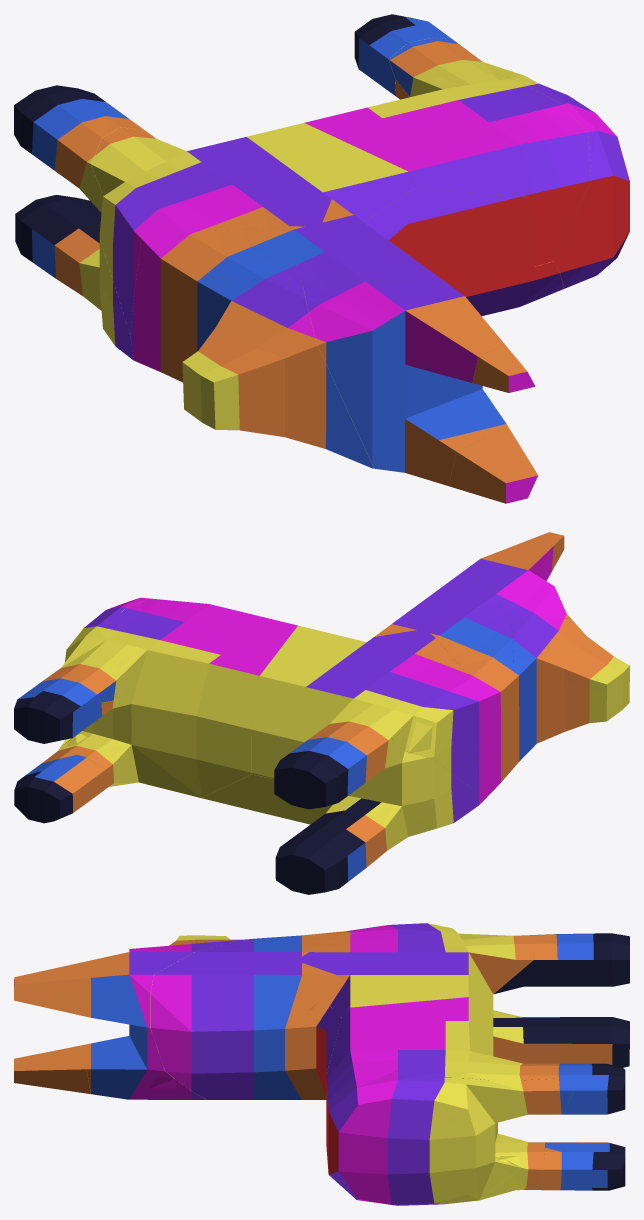
File: pinata2.glb
The picture shows the model from 3 angles, top to bottom: view 1: azimuth 30°, elevation 25°; view 2: azimuth 150°, elevation 25°; view 3: azimuth 270°, elevation 25°; orthographic projection. The views are drawn at different scales.
Parts seen in each view (by area): view 1: Destructible.004_cell.003, Destructible.004_cell.002, Destructible.003_cell.004, Destructible.003_cell.001, Destructible.002_cell.003, Destructible.001_cell.002, Destructible.001_cell.001, Destructible.003_cell.002, Destructible.004_cell, Destructible.002_cell.002, Destructible.001_cell, Destructible.004_cell.004 (+3 smaller); view 2: Destructible.003_cell.001, Destructible.001_cell.001, Destructible.003_cell.004, Destructible.004_cell.002, Destructible.002_cell.003, Destructible.001_cell, Destructible.004_cell, Destructible.003_cell.002, Destructible.004_cell.003, Destructible.002_cell.001, Destructible.002_cell.004, Destructible.002_cell (+3 smaller); view 3: Destructible.002_cell.002, Destructible.004_cell, Destructible.004_cell.003, Destructible.003_cell.001, Destructible.003_cell.004, Destructible.001_cell.001, Destructible.002_cell.003, Destructible.003_cell, Destructible.001_cell, Destructible.002_cell.001, Destructible.002_cell.004, Destructible.004_cell.004 (+5 smaller).
Boxes of the visible parts, x1,y1,x2,y2 form: Destructible.004_cell.003: (303,279,508,486); Destructible.004_cell.002: (182,277,374,468); Destructible.003_cell.004: (90,127,331,334); Destructible.003_cell.001: (14,85,144,360); Destructible.002_cell.003: (388,37,591,266); Destructible.001_cell.002: (364,188,534,315); Destructible.001_cell.001: (304,89,534,198); Destructible.003_cell.002: (130,226,304,382); Destructible.004_cell: (203,215,448,284); Destructible.002_cell.002: (438,37,629,288); Destructible.001_cell: (247,123,415,221); Destructible.004_cell.004: (449,427,538,503); Destructible.003_cell.001: (272,728,479,894); Destructible.001_cell.001: (131,604,297,797); Destructible.003_cell.004: (272,630,485,790); Destructible.004_cell.002: (511,618,629,761); Destructible.002_cell.003: (54,598,208,702); Destructible.001_cell: (251,625,366,779); Destructible.004_cell: (392,568,513,671); Destructible.003_cell.002: (430,633,519,803); Destructible.004_cell.003: (468,541,570,621); Destructible.002_cell.001: (14,752,106,823); Destructible.002_cell.004: (14,681,102,743); Destructible.002_cell: (51,698,138,788); Destructible.002_cell.002: (327,1077,573,1205); Destructible.004_cell: (150,935,301,1099); Destructible.004_cell.003: (48,942,224,1099); Destructible.003_cell.001: (493,933,629,1067); Destructible.003_cell.004: (302,923,533,1026); Destructible.001_cell.001: (326,997,493,1078); Destructible.002_cell.003: (326,1050,566,1139); Destructible.003_cell: (285,963,345,1099); Destructible.001_cell: (330,975,493,1036); Destructible.002_cell.001: (541,1142,625,1190); Destructible.002_cell.004: (562,1063,625,1114); Destructible.004_cell.004: (14,1047,90,1093).
Size of the model in its own units: 6.14 by 1.8 by 7.93.
